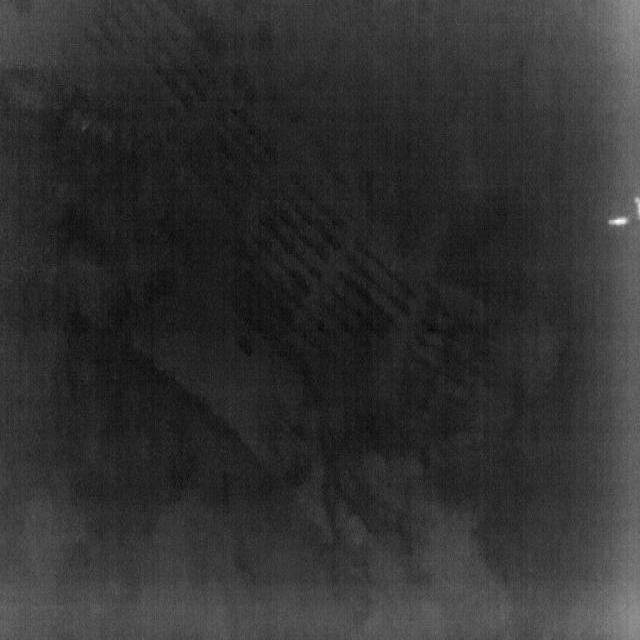deer: (608, 216, 630, 228), (633, 196, 640, 220)
